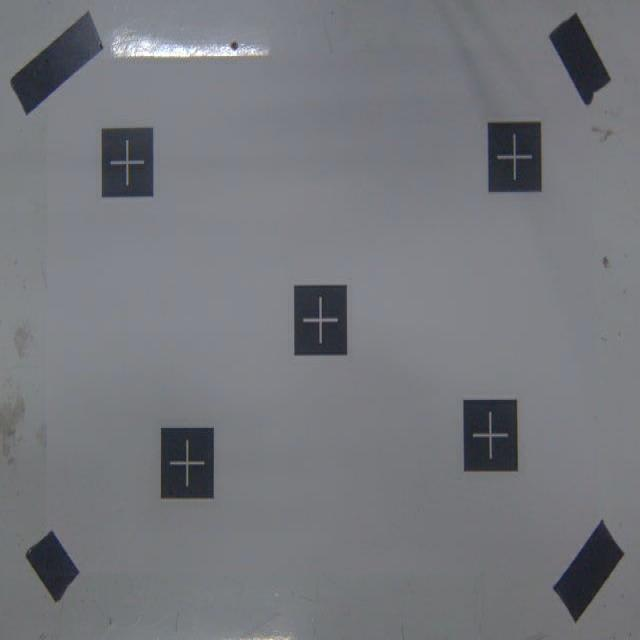dot: (463, 400, 518, 470), (162, 427, 213, 501), (488, 123, 543, 191), (294, 286, 347, 356), (102, 128, 153, 195)
